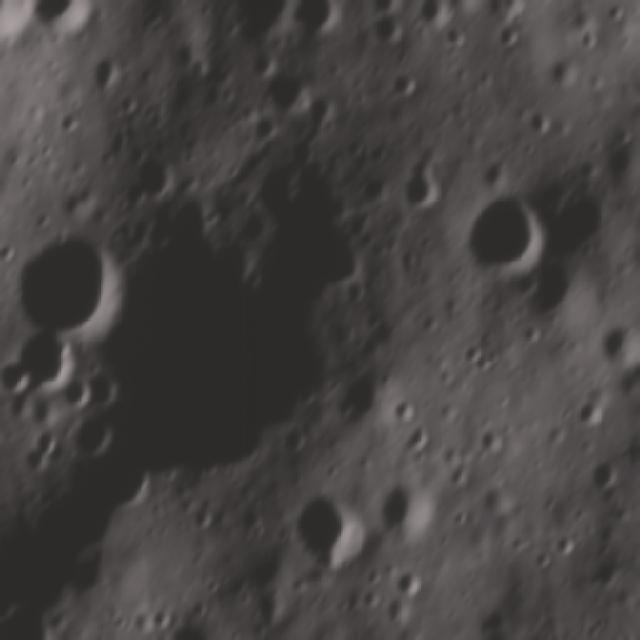crater: (103, 205, 383, 498), (20, 205, 134, 333), (462, 188, 556, 290), (284, 482, 374, 580), (538, 182, 618, 260), (0, 327, 75, 398), (376, 471, 438, 537), (248, 58, 314, 118), (594, 301, 640, 376), (398, 158, 452, 210), (589, 438, 637, 496), (284, 0, 342, 42), (392, 557, 436, 603), (618, 188, 640, 240), (31, 0, 100, 12)
